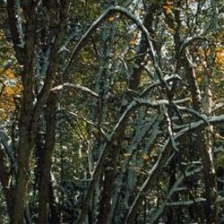neutral: (1, 2, 224, 218)
